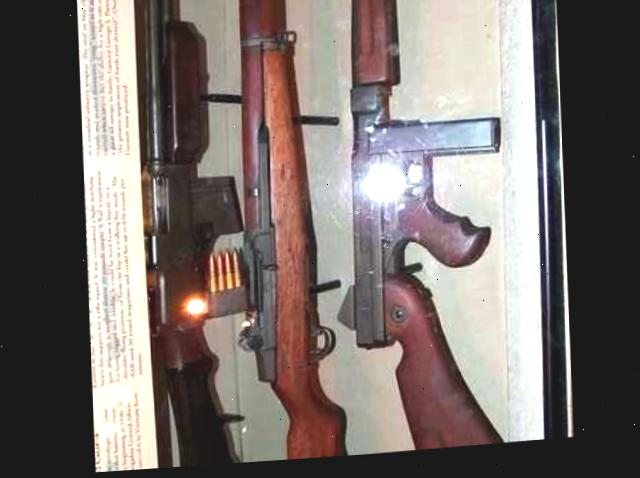rifle: (326, 0, 538, 460), (201, 0, 399, 467), (131, 0, 237, 471)
